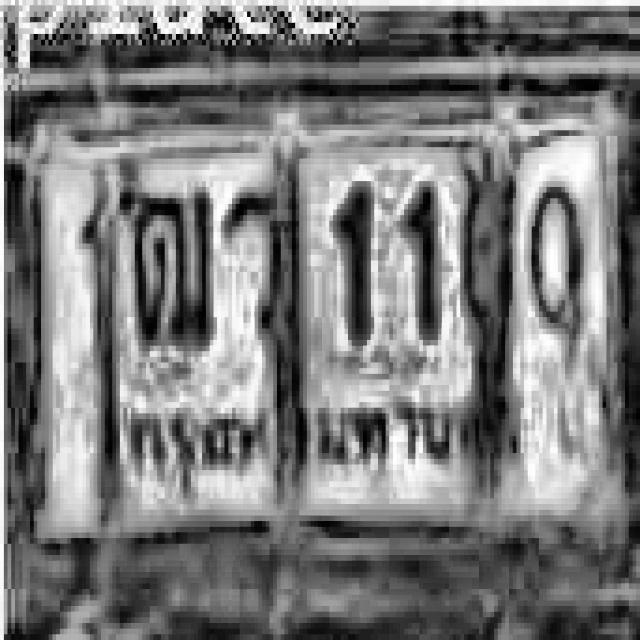license-plate: (11, 95, 640, 574)
